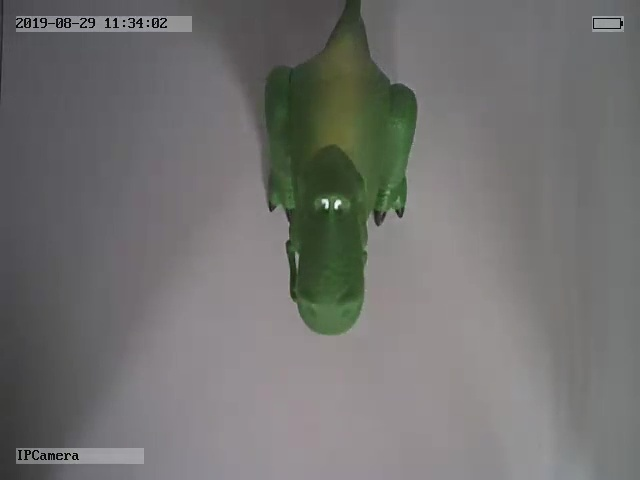rex: (258, 1, 419, 334)
